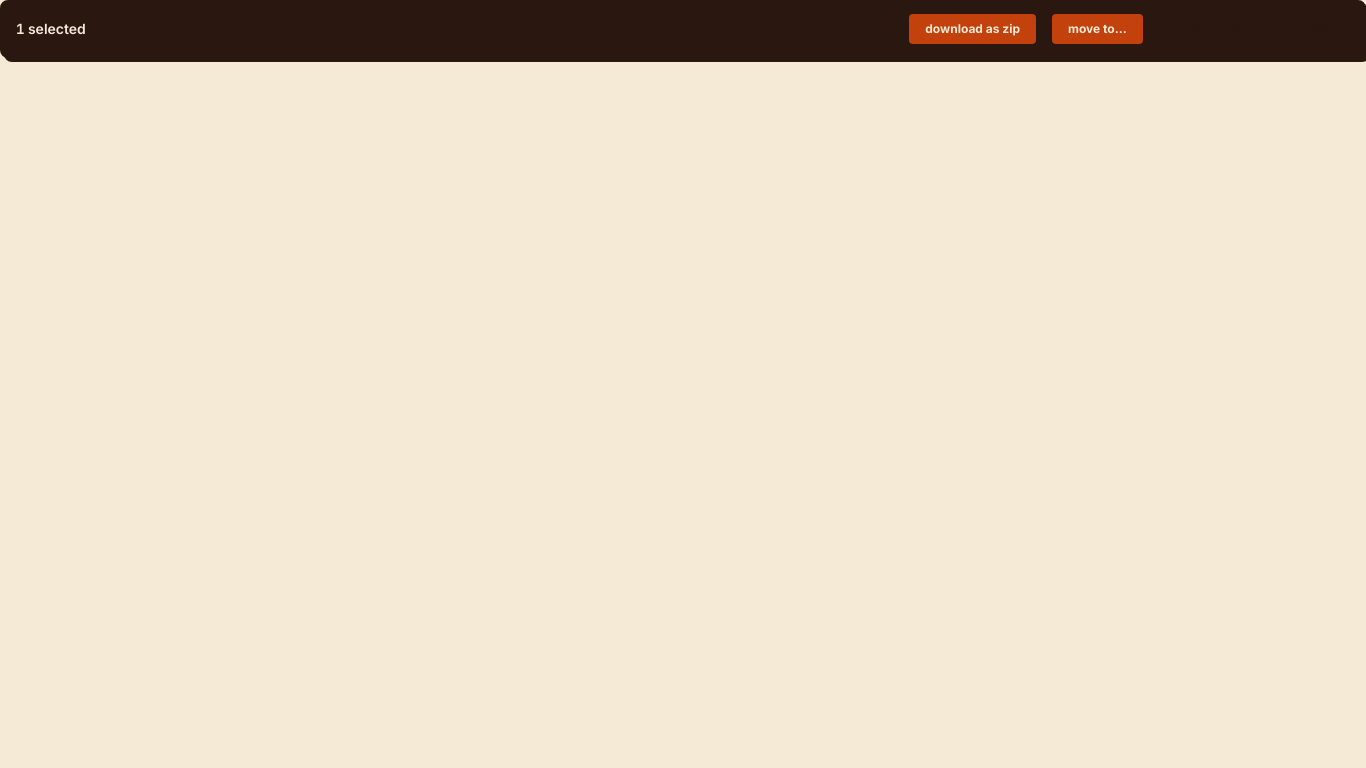
Scenario: SelectionToolbar › Move button opens a folder picker modal
This screenshot has width=1366, height=768.
Click the button "move to…". click: (1097, 29)
box: x1=1050 y1=12 x2=1145 y2=46
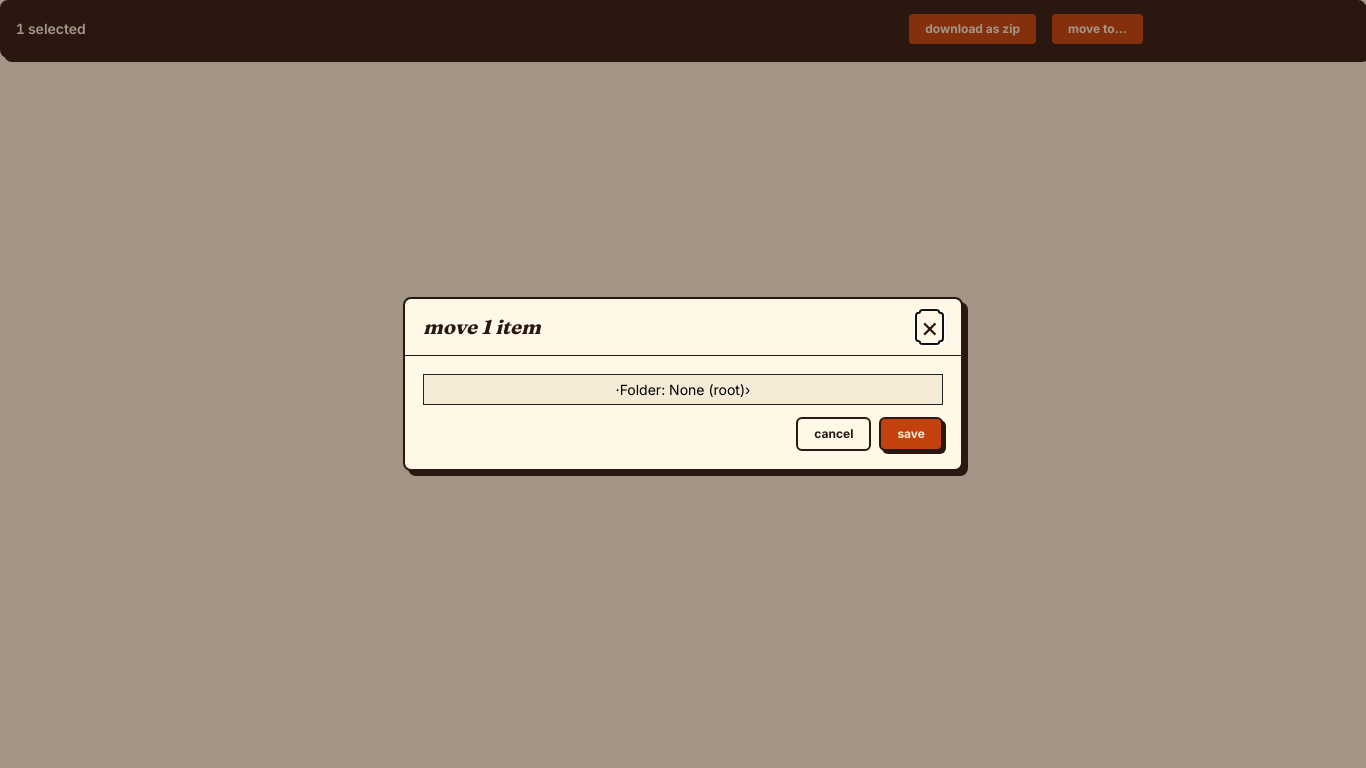
Check: the dialog "move 1 item × ·Folder: None (root)› cancel save" is shown, box x1=403 y1=297 x2=963 y2=471
